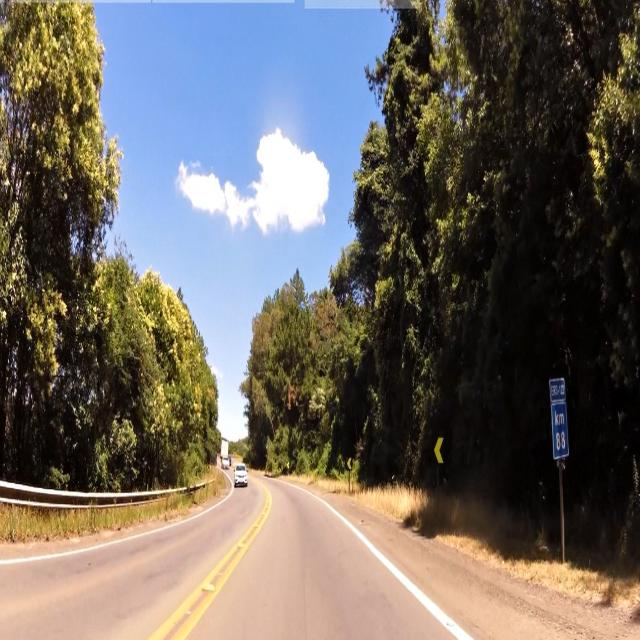Del: (434, 432, 444, 467)
RQ: (548, 384, 574, 464)
